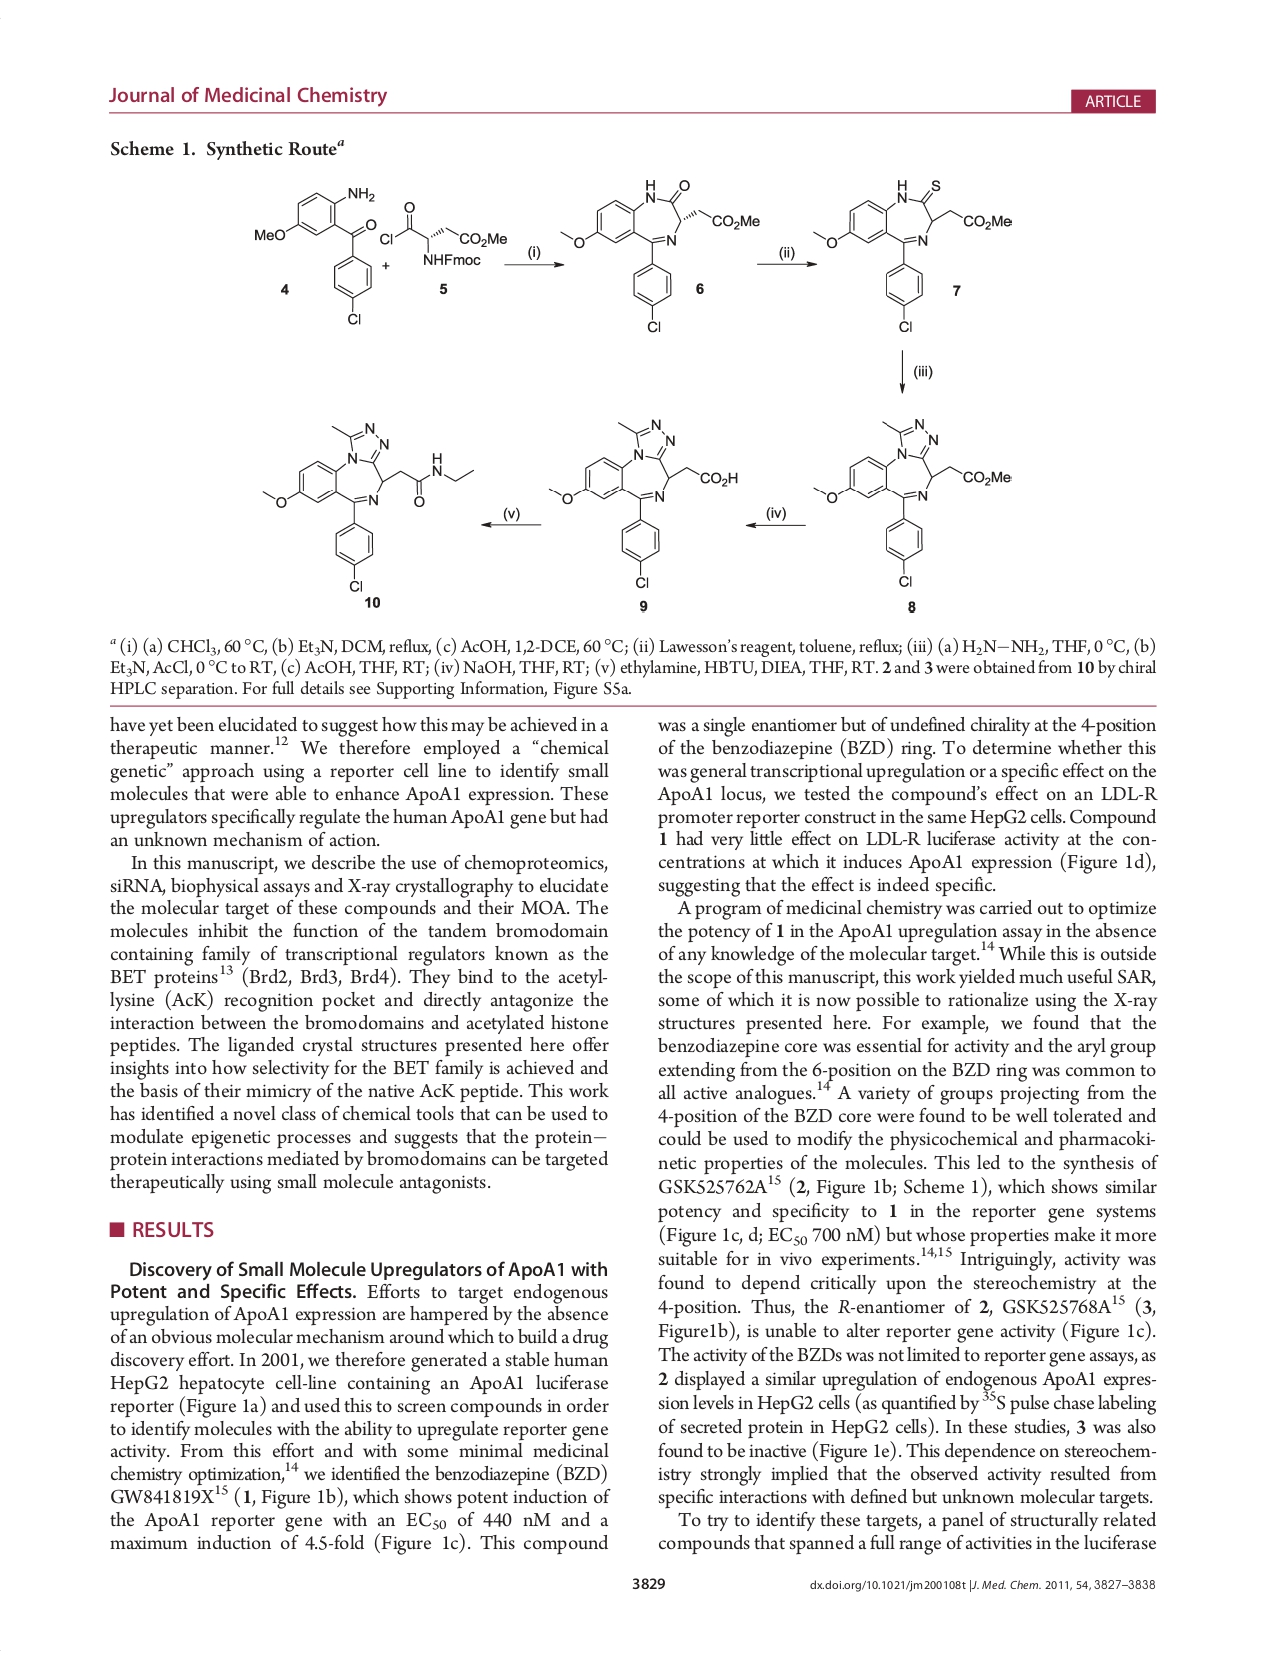exist_molecular: (259, 418, 476, 596), (809, 418, 1016, 590), (547, 418, 741, 590), (556, 176, 762, 336), (811, 176, 1015, 336), (249, 184, 379, 328), (380, 197, 509, 270)
